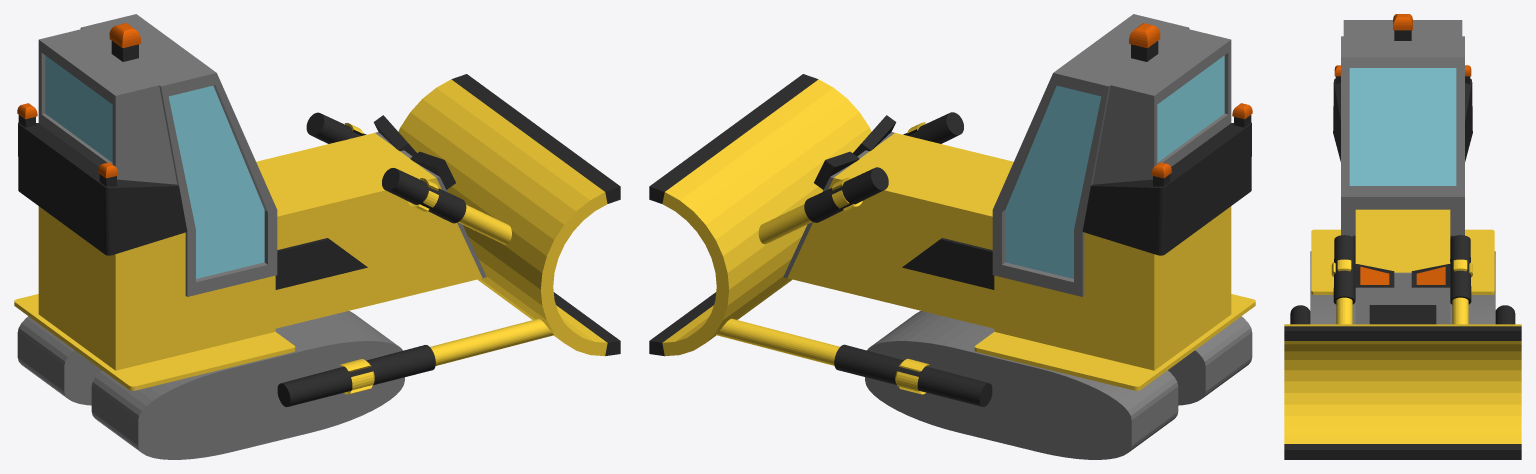
The model's file is bulldozer.fbx.
The picture shows the model from 3 angles, left to right: view 1: azimuth 30°, elevation 25°; view 2: azimuth 150°, elevation 25°; view 3: azimuth 270°, elevation 25°; orthographic projection. The views are drawn at different scales.
Parts seen in each view (by area): view 1: träger.003; view 2: träger.003; view 3: träger.003.
Part boxes in pixels (left/top/right/bottom): träger.003: left=14, top=14, right=620, bottom=459; träger.003: left=649, top=14, right=1255, bottom=459; träger.003: left=1284, top=14, right=1521, bottom=459.
Bounding box in the file's own units: 905 × 703 × 500.
